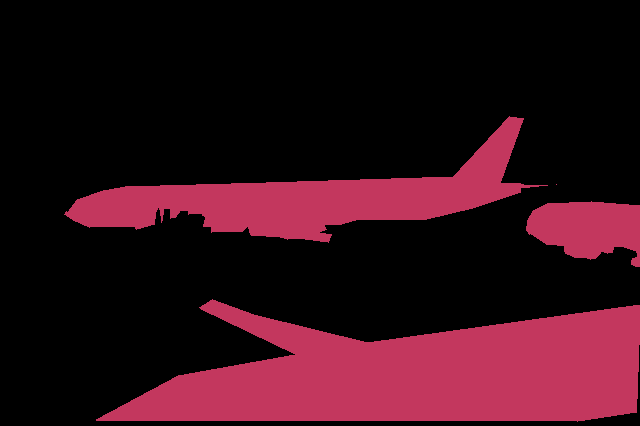Airplane: (96, 299, 640, 421), (64, 116, 556, 242), (526, 201, 640, 267)
